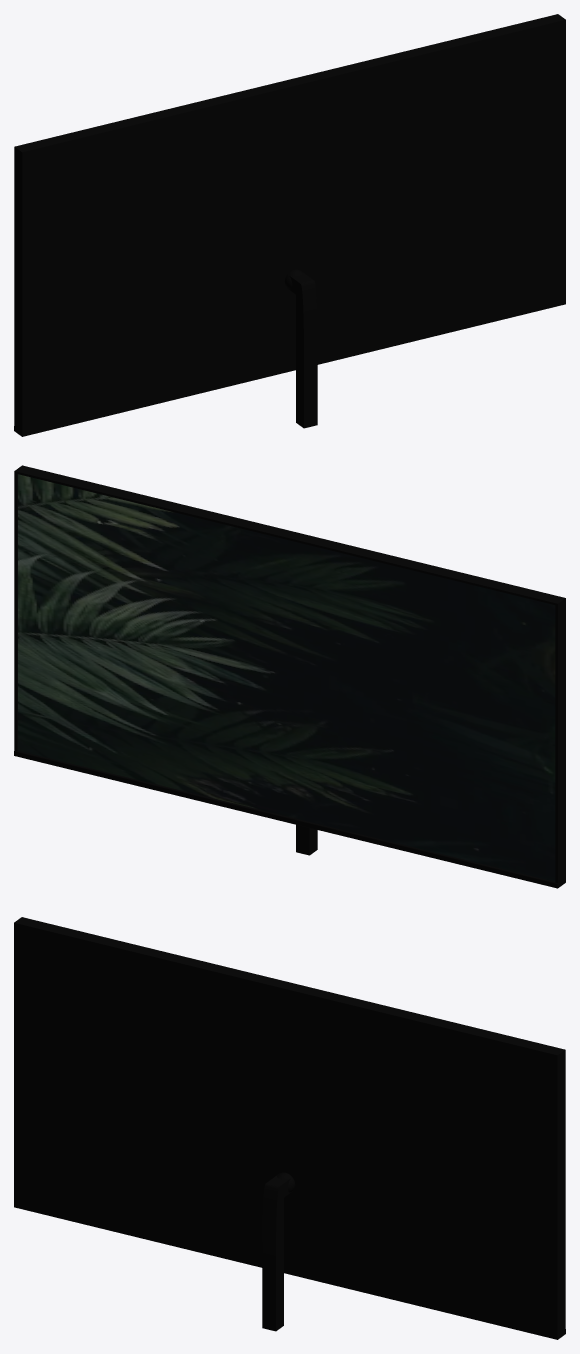
File: monitor.glb
3 views of the same model, one above another, from view 1: azimuth 30°, elevation 25°; view 2: azimuth 150°, elevation 25°; view 3: azimuth 330°, elevation 25° (orthographic).
Visible parts, largest first — view 1: Cube.004_33, Cube.007_36; view 2: Cube.009_39, Cube.004_33, Cube.007_36; view 3: Cube.004_33, Cube.007_36.
Part boxes in pixels (x1,y1,x2,y2): Cube.004_33: (14,14,565,436); Cube.007_36: (296,277,317,428); Cube.009_39: (18,474,555,881); Cube.004_33: (14,465,565,888); Cube.007_36: (296,824,317,855); Cube.004_33: (14,917,565,1339); Cube.007_36: (262,1180,283,1331).
Bounding box in the file's own units: 9.57 × 5.52 × 0.7576.
Materials: 3 (1 with a texture image).
